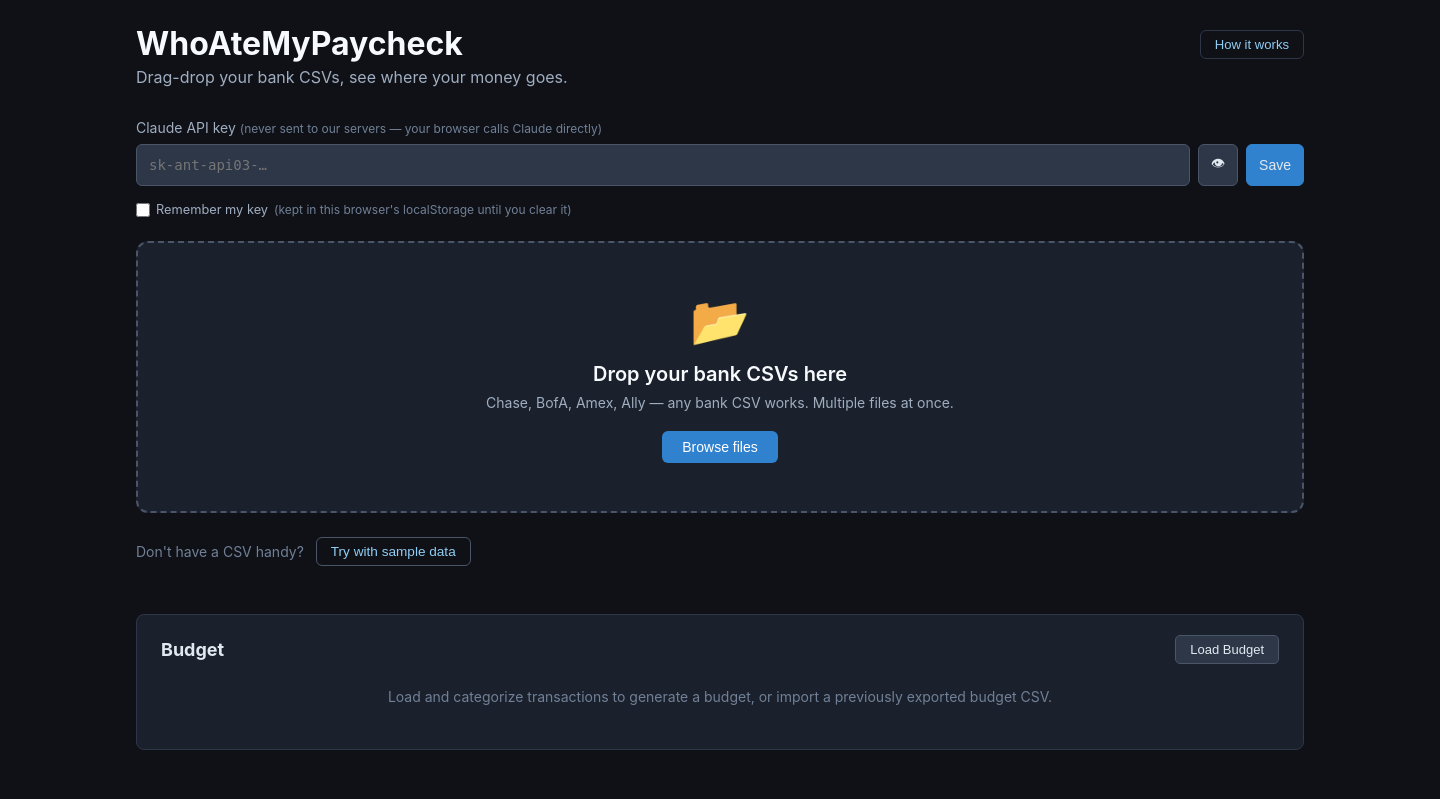
Test: App — demo mode › hides "Generate Budget" while demo data is active, so a fictional budget can never be saved
Click the button "Try with sample data": click(393, 552) [316,537,471,566]
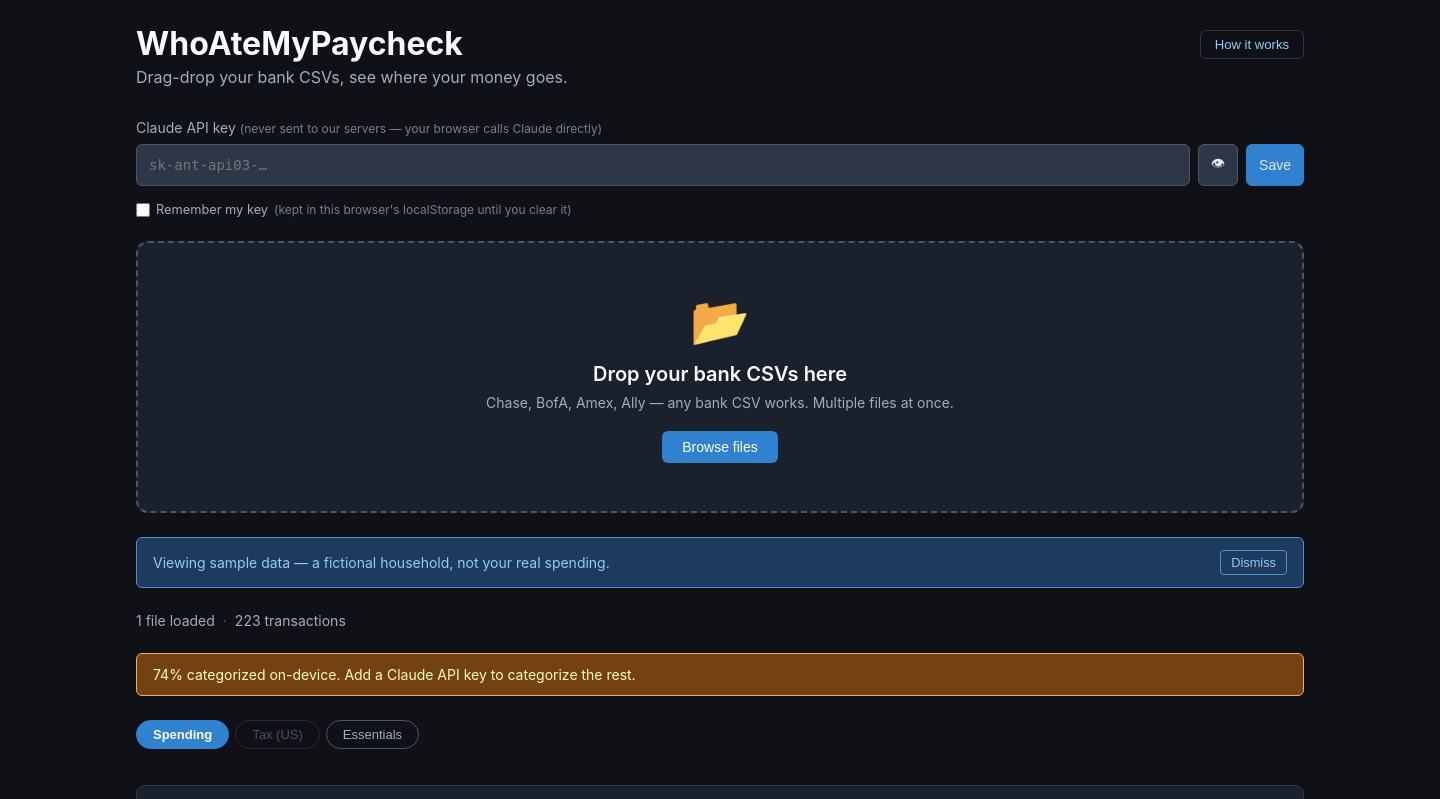
Expected: the text "Viewing sample data" is shown, [153,554,610,571]
